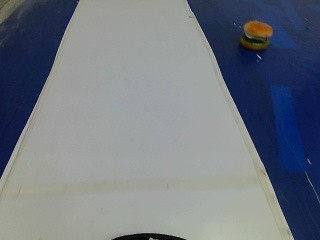burger: (239, 17, 271, 49)
